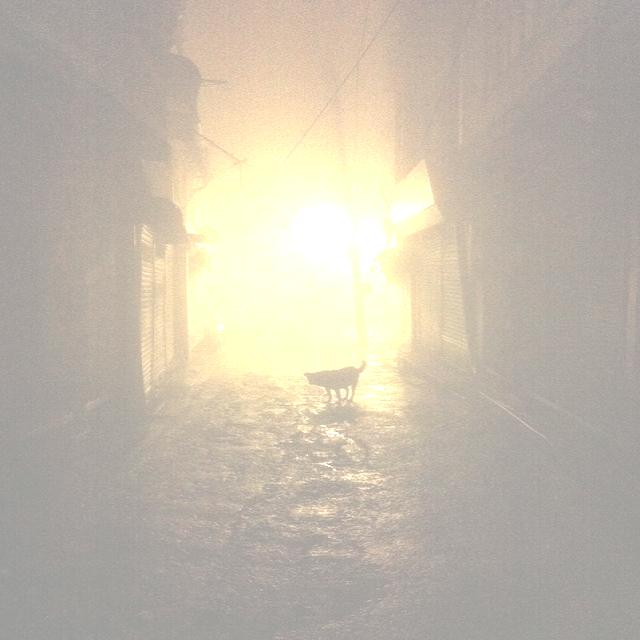Dog: (253, 357, 394, 438)
